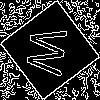W: (25, 25, 77, 79)
